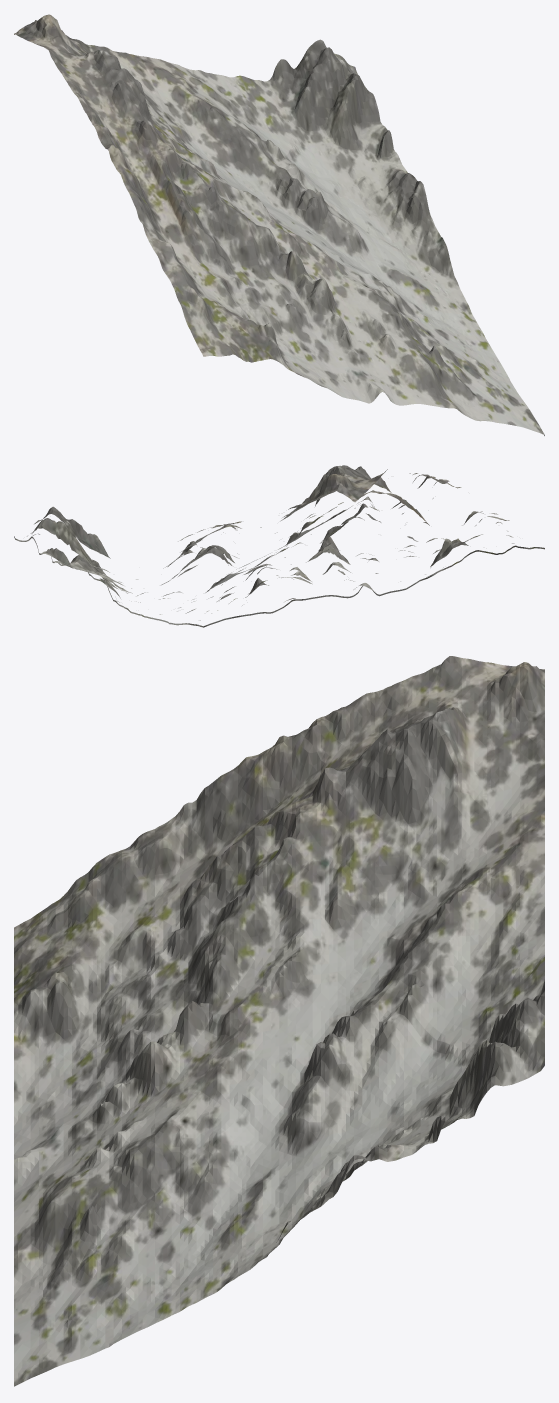
3 views of the same model, one above another, from view 1: azimuth 30°, elevation 25°; view 2: azimuth 150°, elevation 25°; view 3: azimuth 270°, elevation 25° (orthographic). The views are drawn at different scales.
Size of the model in its own units: 250 by 255 by 241.
Materials: 1 (1 with a texture image).
